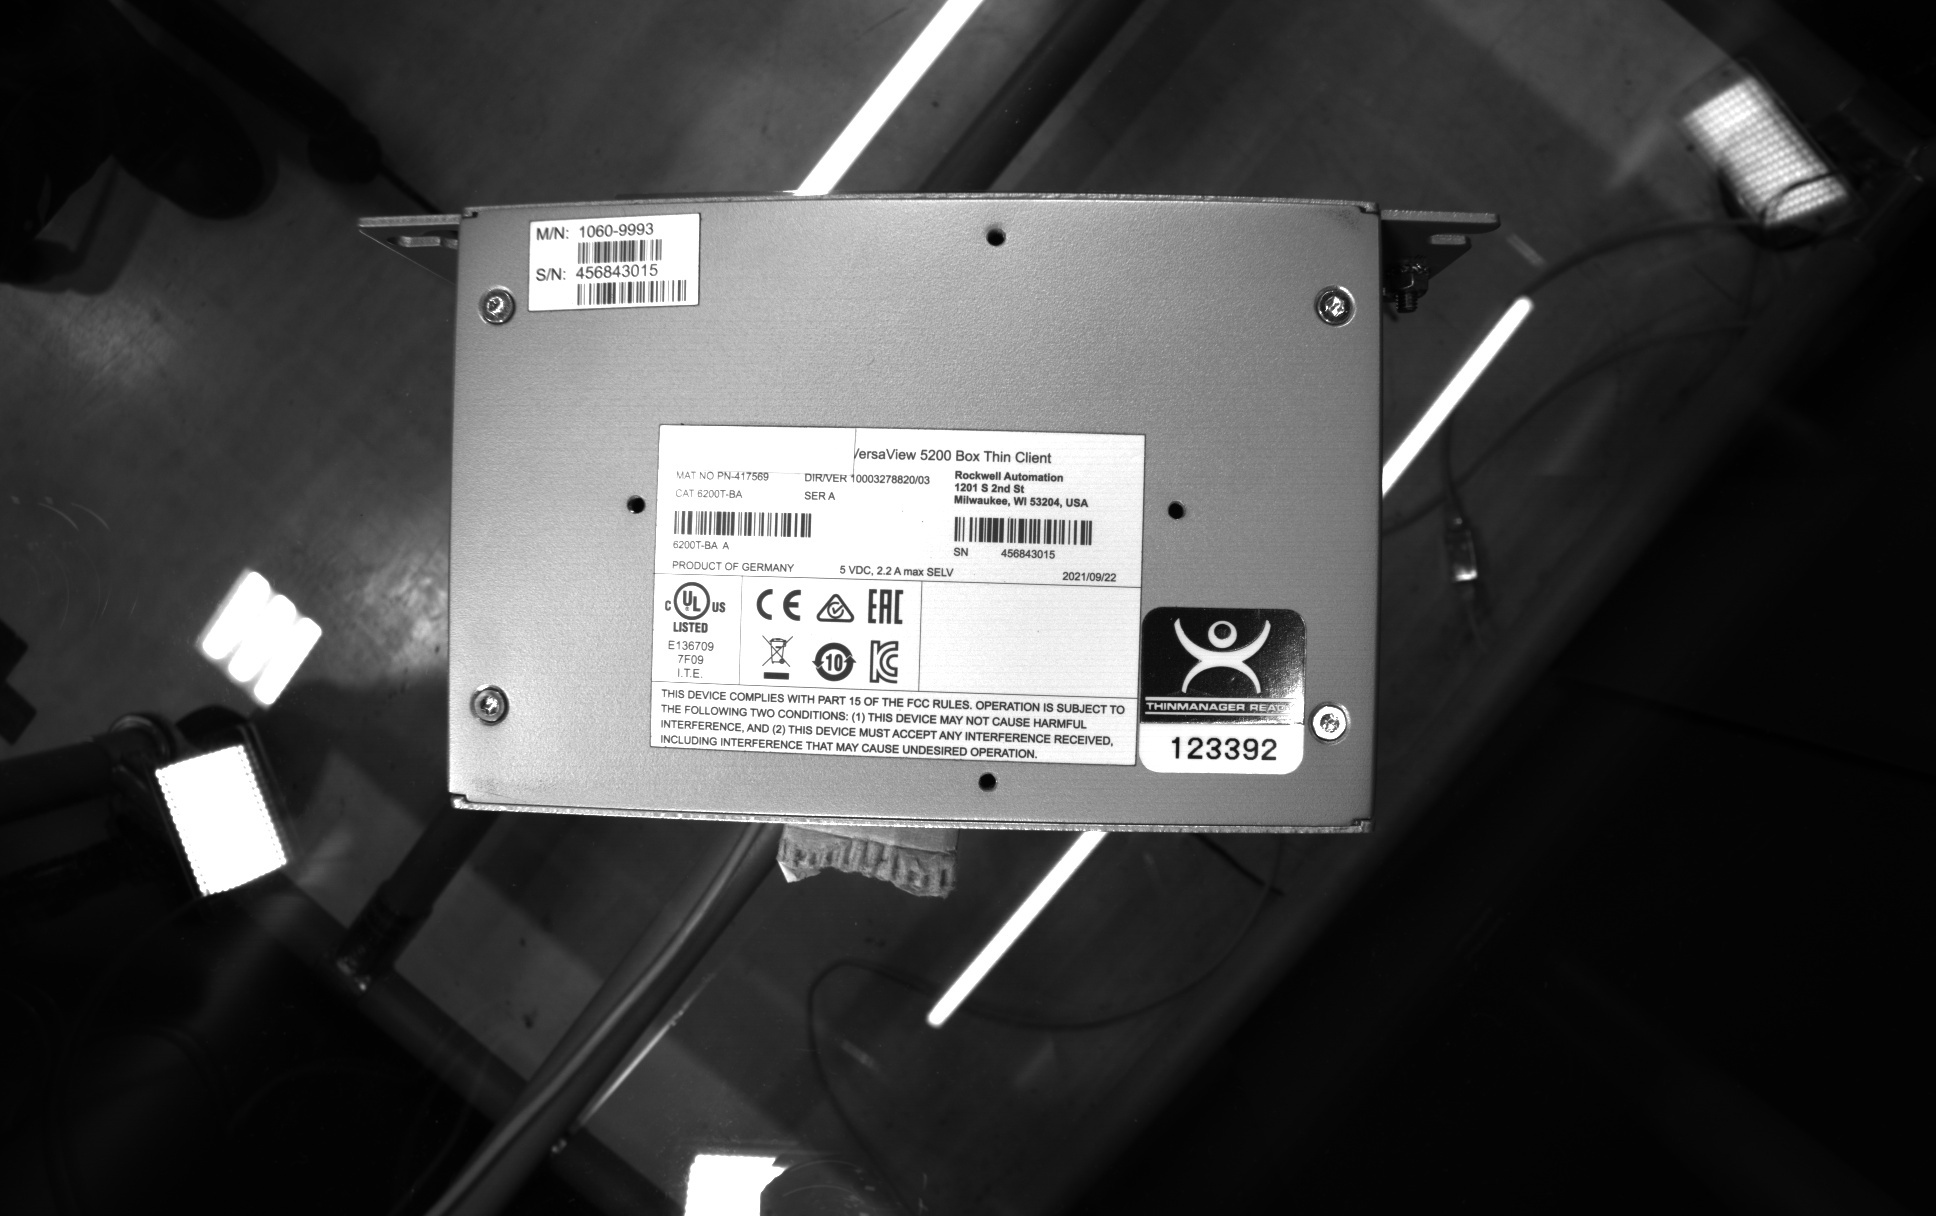Barcode: (944, 513, 1102, 551), (665, 506, 822, 544), (570, 275, 693, 312), (570, 234, 668, 266)
CamTop: (426, 185, 1404, 852)
Label_Seriennummer: (635, 413, 1157, 776)
Loch_Montage: (614, 482, 654, 527), (967, 765, 1010, 804), (975, 217, 1016, 255), (1159, 489, 1196, 530)
Schraube: (1307, 282, 1364, 333), (465, 679, 516, 735), (1306, 696, 1355, 751), (472, 280, 523, 332)
